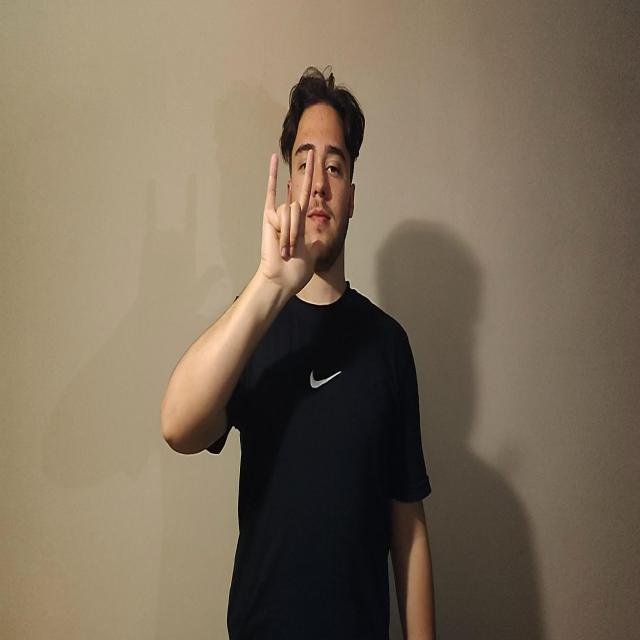iloveyou: (258, 148, 317, 305)
